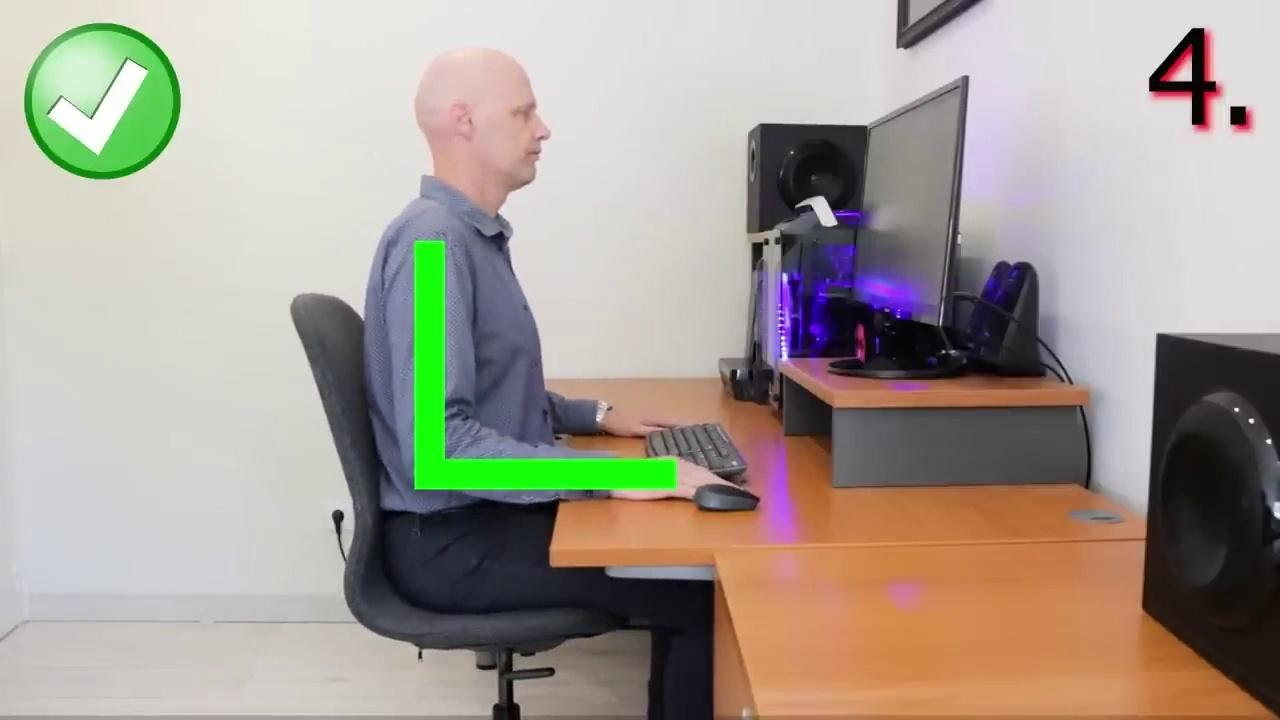GoodPosture: (365, 48, 726, 719)
